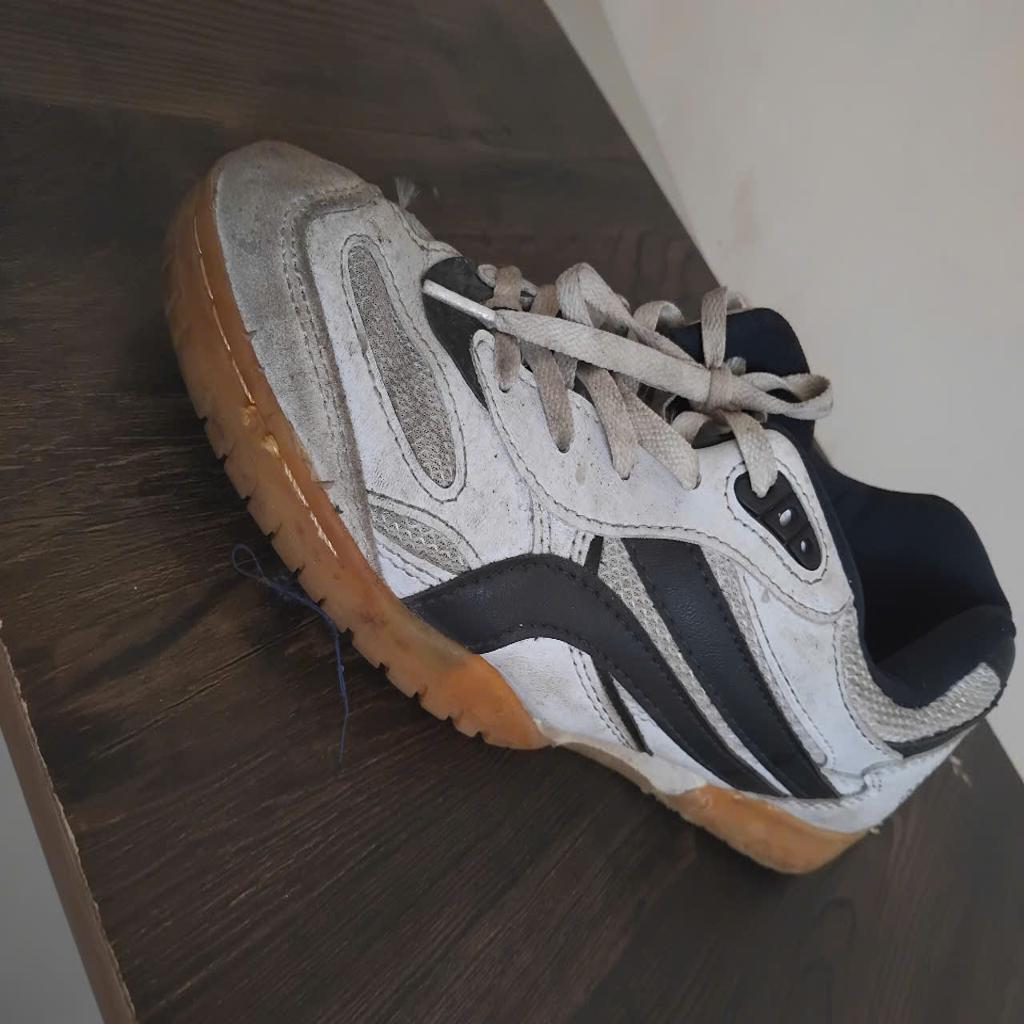broken: (232, 392, 281, 461)
